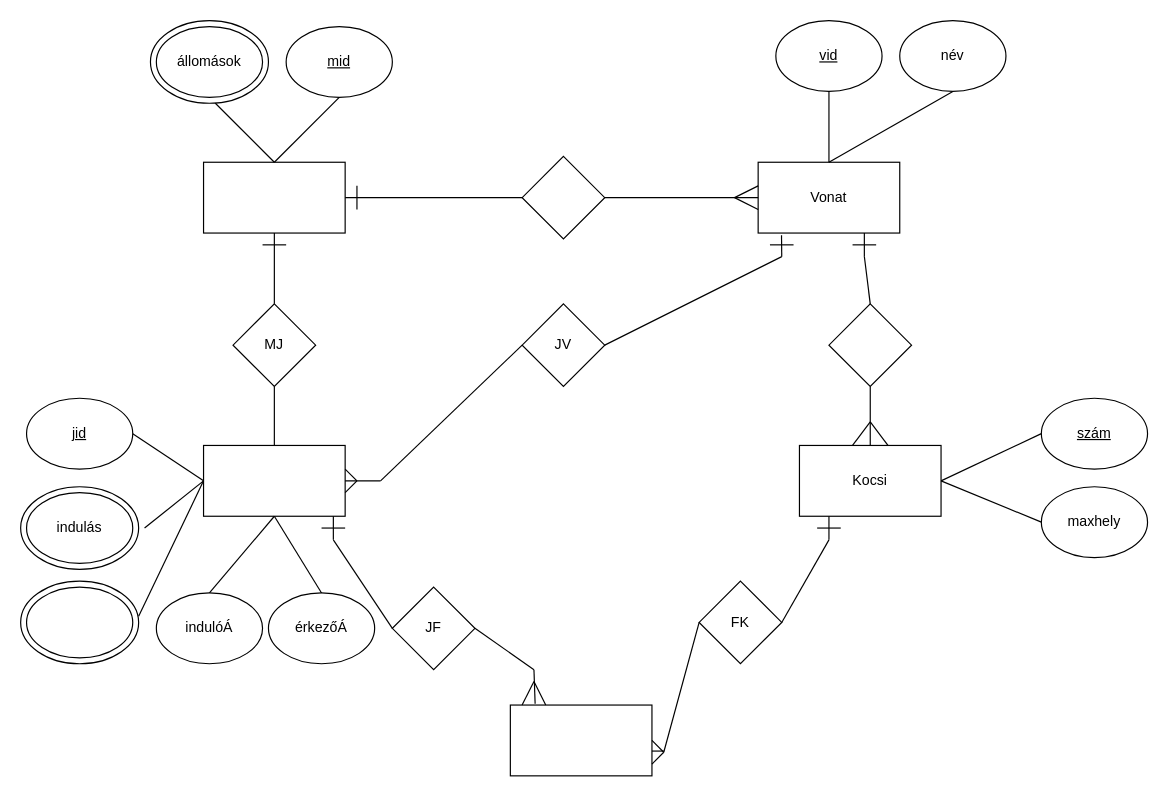
Some shapes in this 1168 by 796 pixel diagram are drawn without their labels. Each missing label, with the centre of its shape:
Foglalás: point (580, 740)
Járat: point (273, 480)
MV: point (563, 197)
MÁV: point (273, 197)
VK: point (870, 344)
érkezés: point (79, 622)
